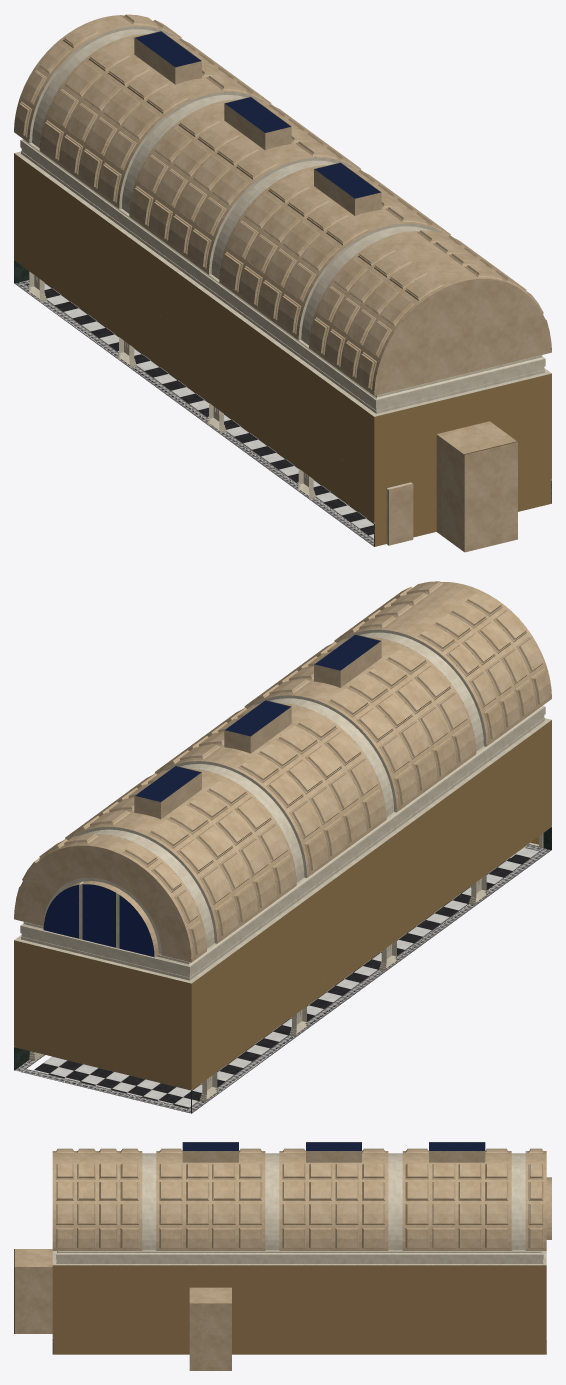
Rendered from sala.glb.
3 views of the same model, one above another, from view 1: azimuth 30°, elevation 25°; view 2: azimuth 150°, elevation 25°; view 3: azimuth 270°, elevation 25° (orthographic). The views are drawn at different scales.
Parts seen in each view (by area): view 1: muros, boveda, suelo, emisivos; view 2: muros, boveda, suelo, emisivos; view 3: muros, boveda, emisivos.
Part boxes in pixels (<box>): muros: <box>14,15,551,552</box>; boveda: <box>14,14,551,395</box>; suelo: <box>14,278,373,546</box>; emisivos: <box>135,31,380,198</box>; muros: <box>14,611,551,1113</box>; boveda: <box>14,581,551,962</box>; suelo: <box>15,844,550,1113</box>; emisivos: <box>43,635,380,957</box>; muros: <box>15,1177,551,1370</box>; boveda: <box>52,1142,546,1250</box>; emisivos: <box>182,1142,485,1150</box>.
Bounding box in the file's own units: 10.32 × 11.2 × 30.6.
Materials: 20 (8 with a texture image).
